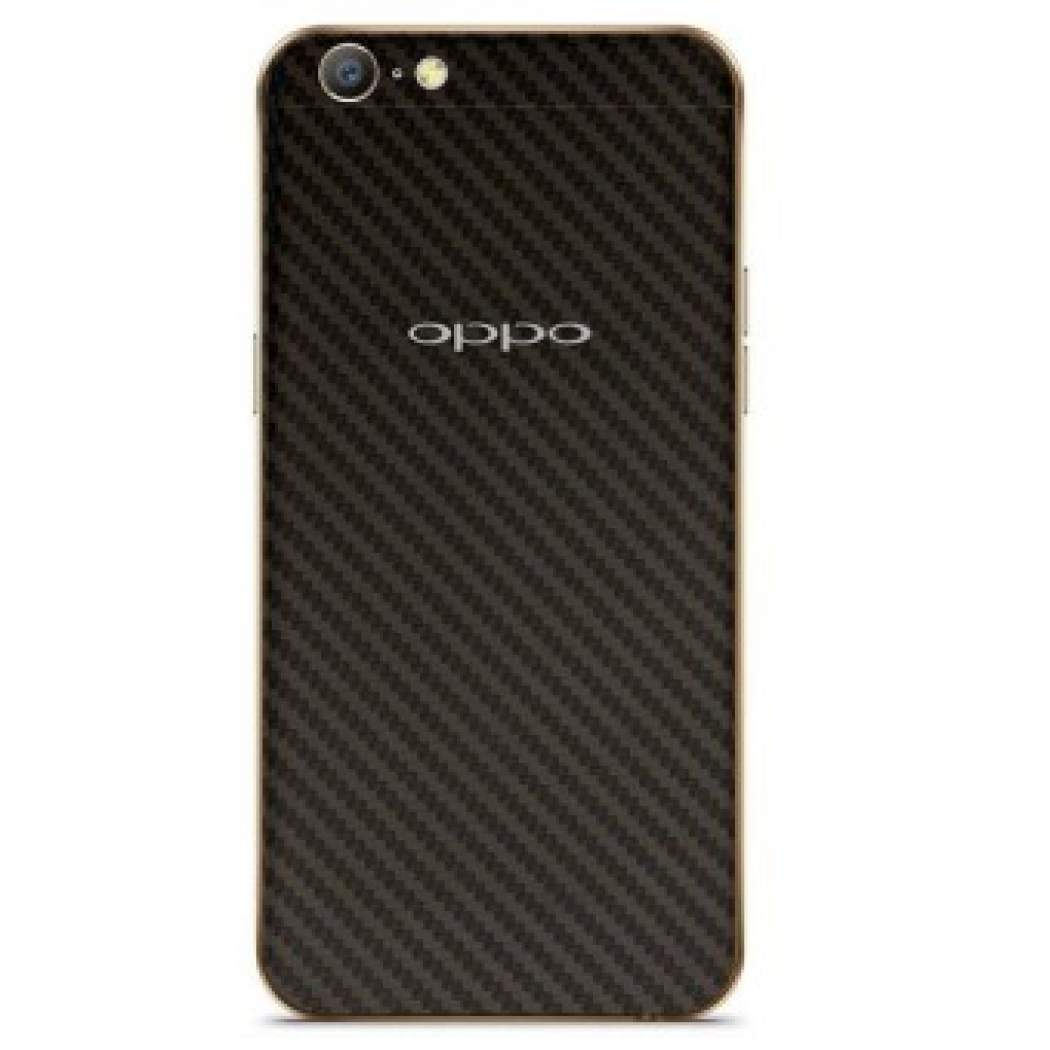Handphone: (243, 19, 757, 1029)
